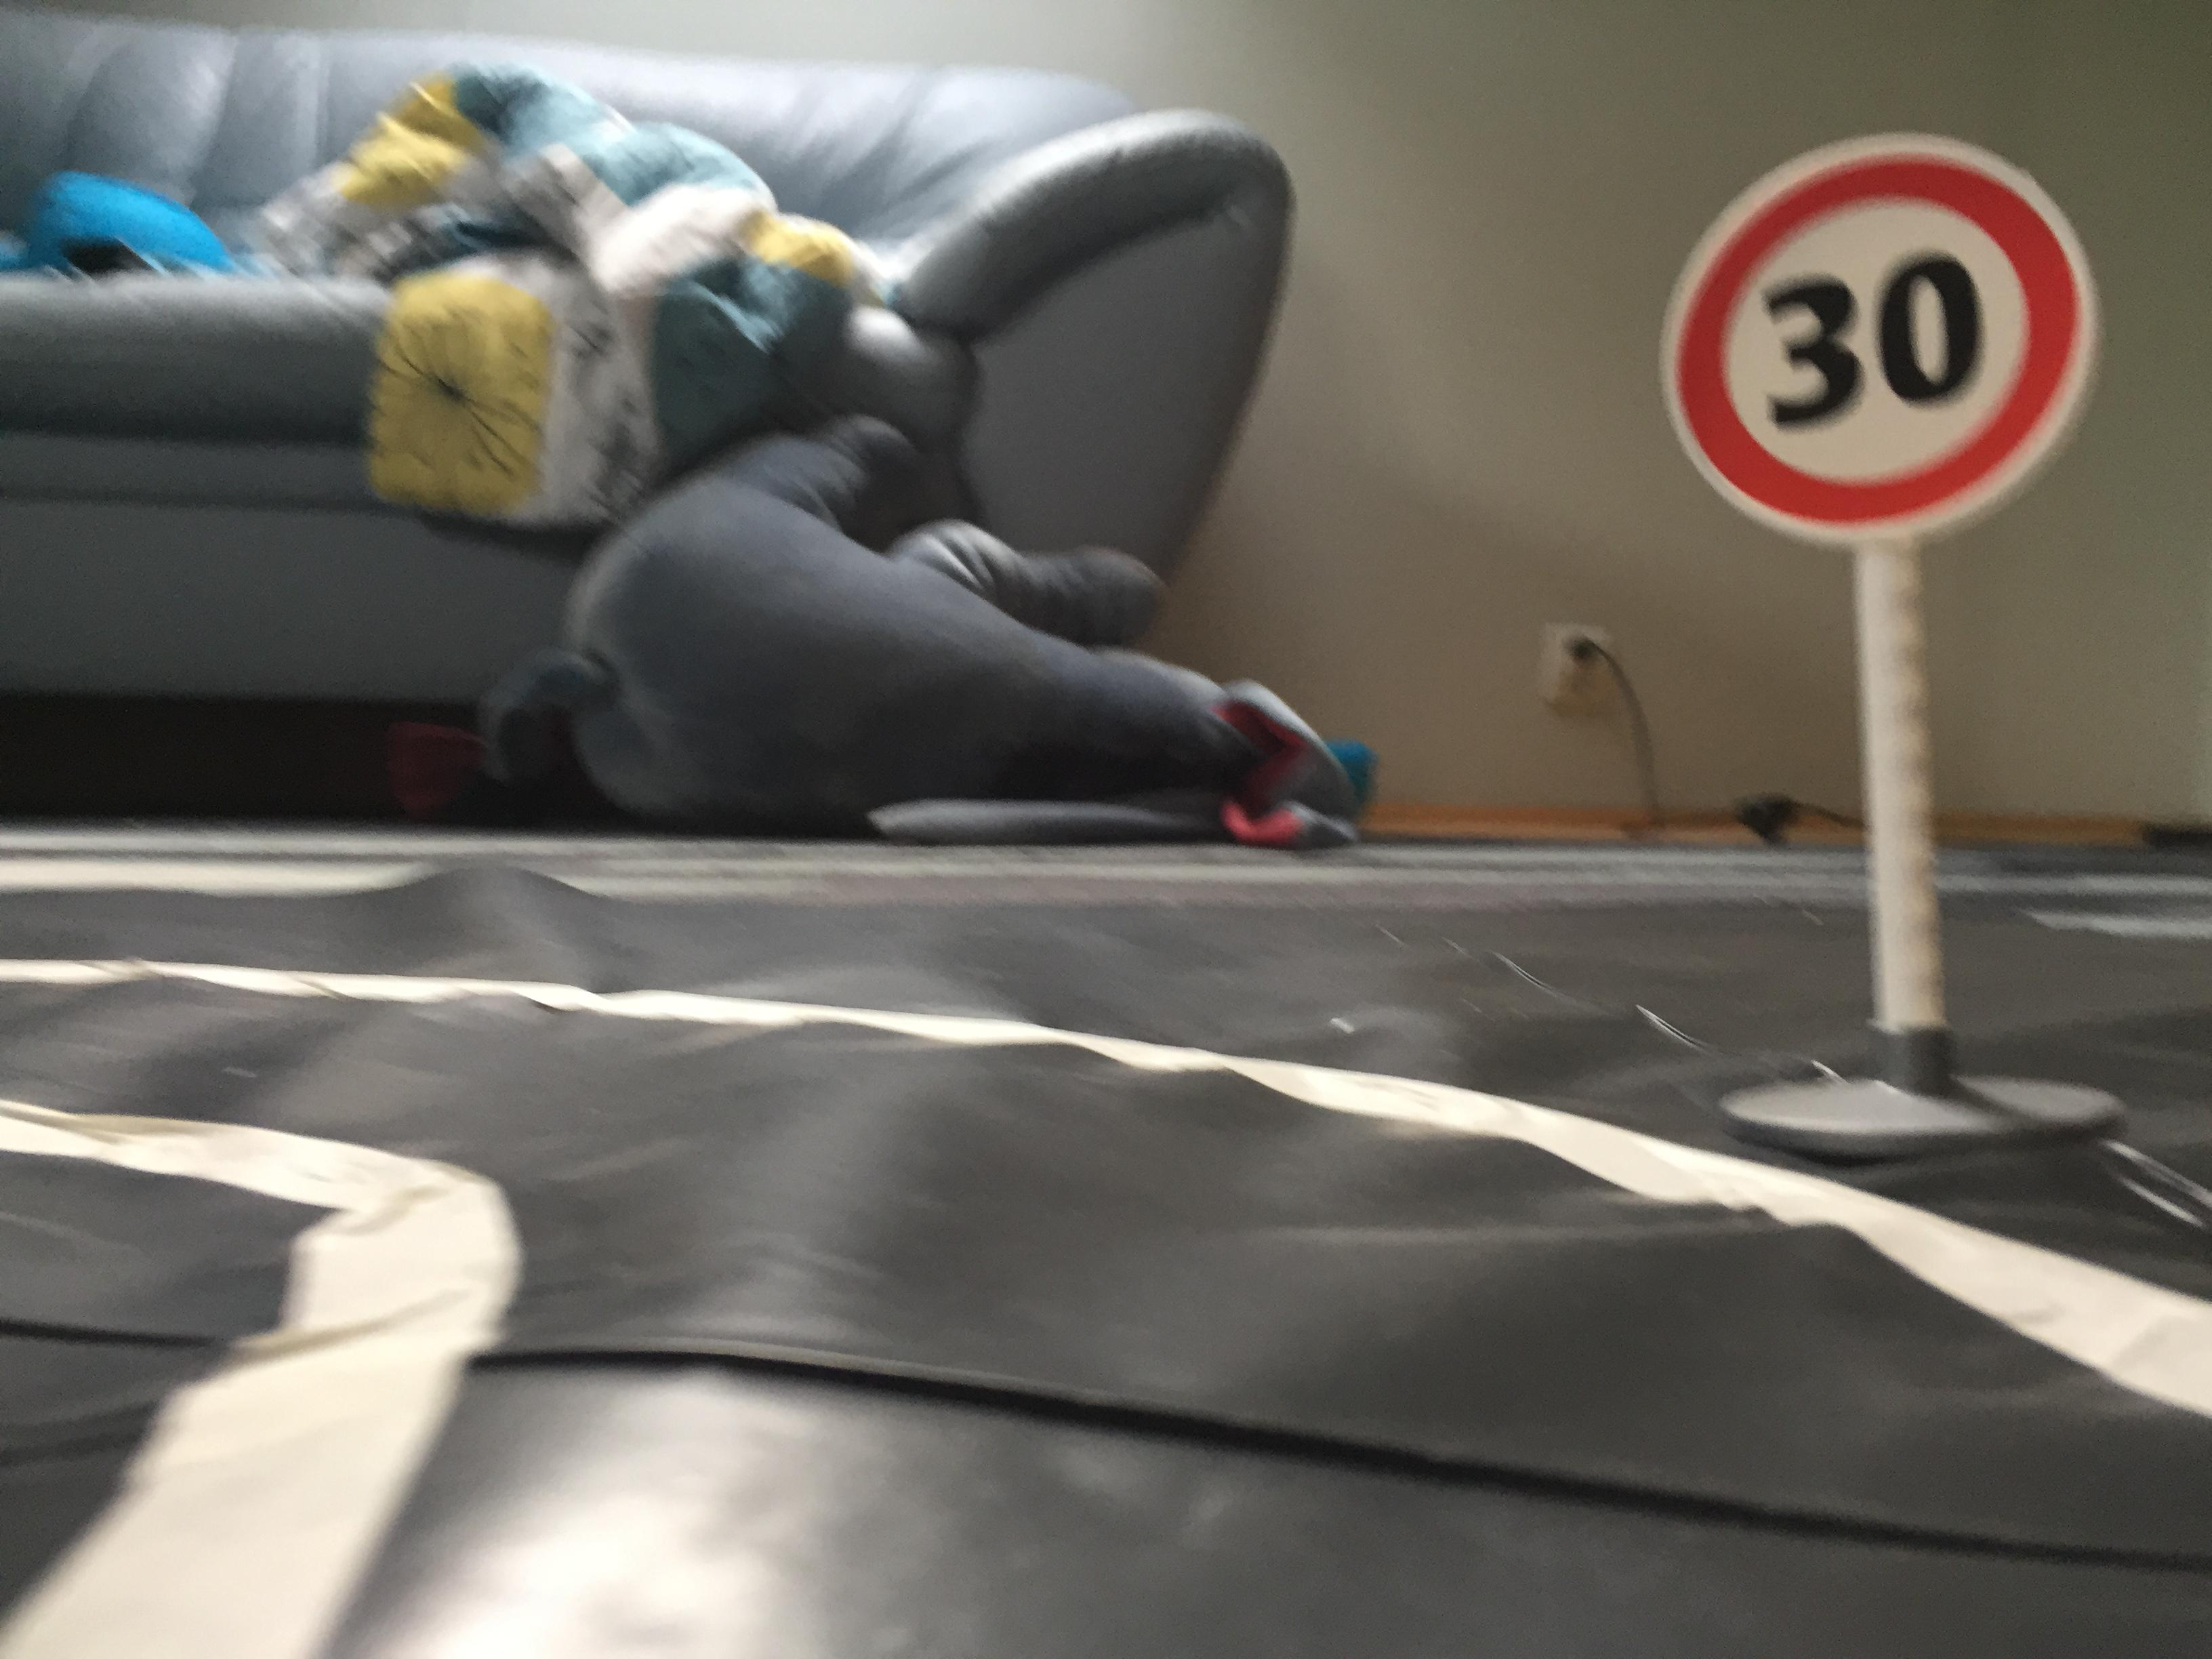speed: (1653, 115, 2128, 563)
